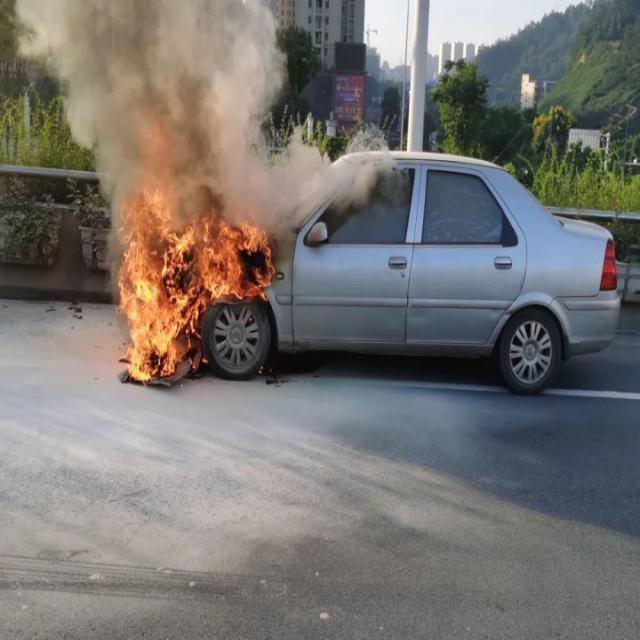fire: (120, 187, 278, 389)
